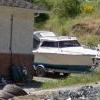Boat: (34, 25, 100, 84)
